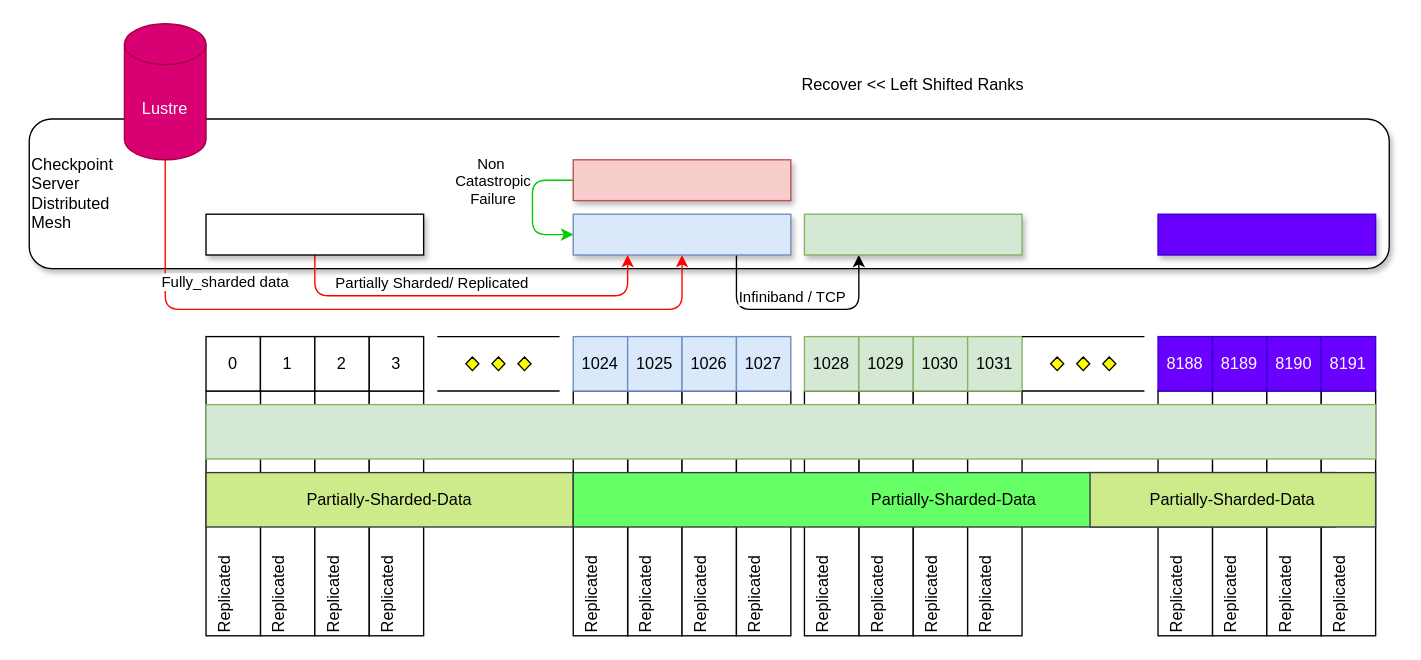
Image size: 1421x660. Some labels were removed from this diagram. The centre of each missing label's shape, as x and y in pixels:
"Fully-Sharded-Data" belongs at (790,431).
"Node: 0" belongs at (315,236).
"Node: 2048" belongs at (1267,236).
"Node: 256" belongs at (682,181).
"Node: 257" belongs at (682,236).
"Node: 258" belongs at (914,236).
